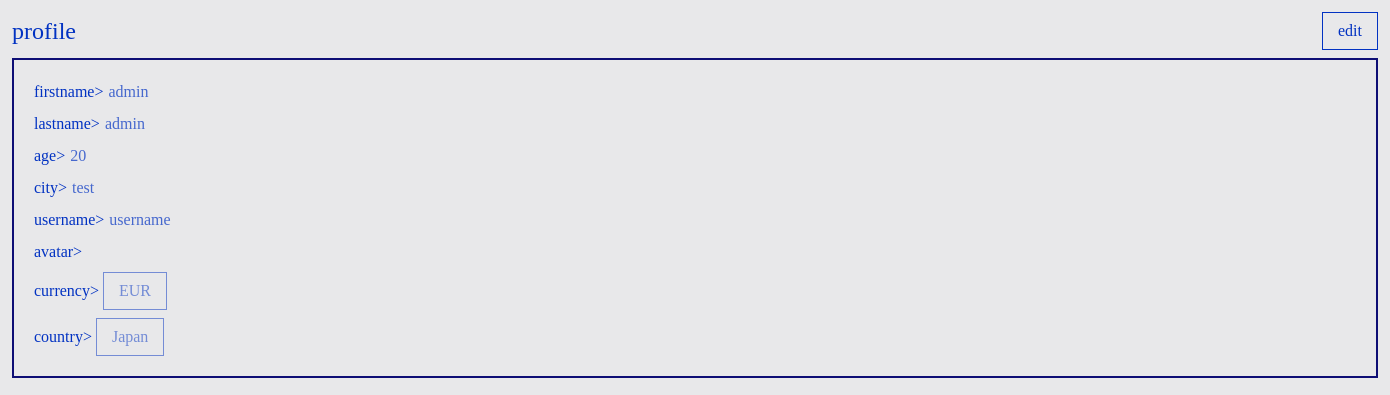
Scenario: EditableProfileCard › toggle readonly mode
The width and height of the screenshot is (1390, 395).
Click the button with test id "edit-button" at x=1350, y=31, box x1=1322 y1=12 x2=1378 y2=50
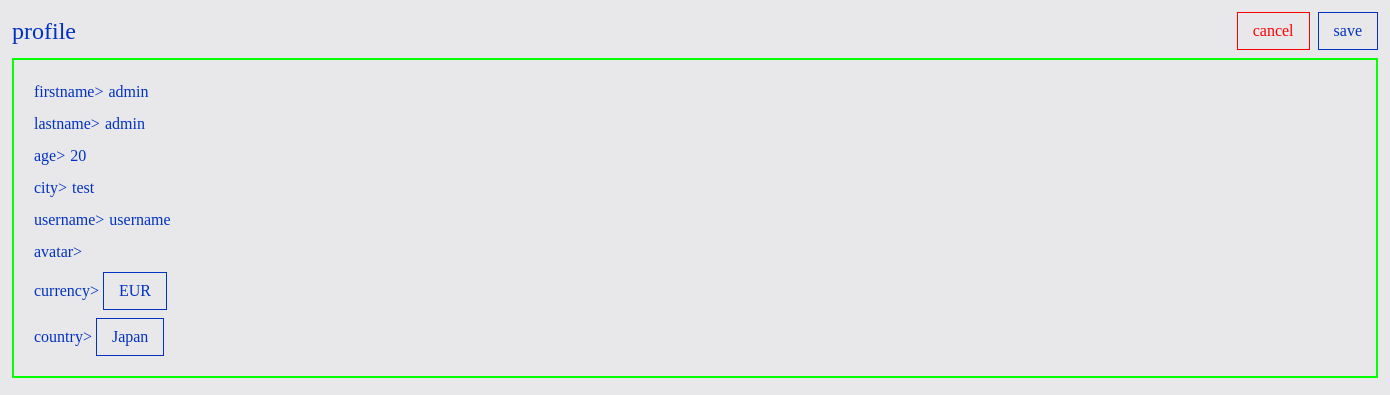
Check: the button with test id "cancel-button" is shown, box x1=1237 y1=12 x2=1310 y2=50
